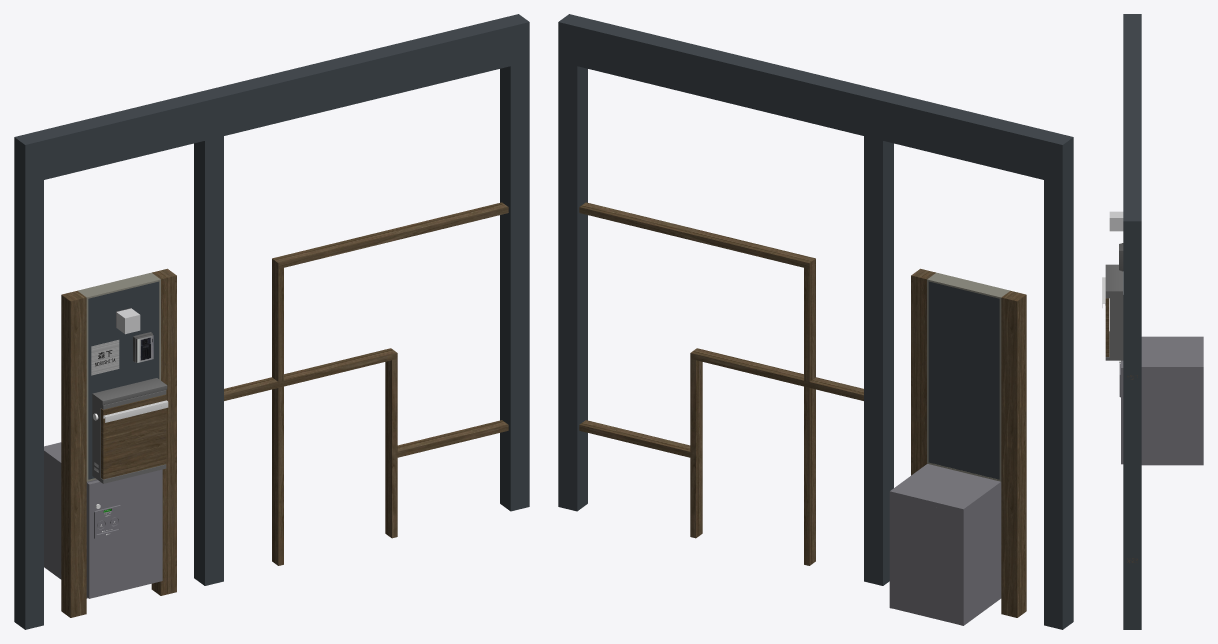
Rendered from hym19_brownebony.fbx.
3 renders of one model, left to right at view 1: azimuth 30°, elevation 25°; view 2: azimuth 150°, elevation 25°; view 3: azimuth 270°, elevation 25°, orthographic. The views are drawn at different scales.
Parts seen in each view (by area): view 1: hym19_matdarkgray-brownebony; view 2: hym19_matdarkgray-brownebony; view 3: hym19_matdarkgray-brownebony.
Part boxes in pixels (x1,y1,x2,y2): hym19_matdarkgray-brownebony: (14,14,529,629); hym19_matdarkgray-brownebony: (558,14,1073,629); hym19_matdarkgray-brownebony: (1102,14,1203,629).
Bounding box in the file's own units: 267 × 245 × 55.06.
Materials: 24 (9 with a texture image).
